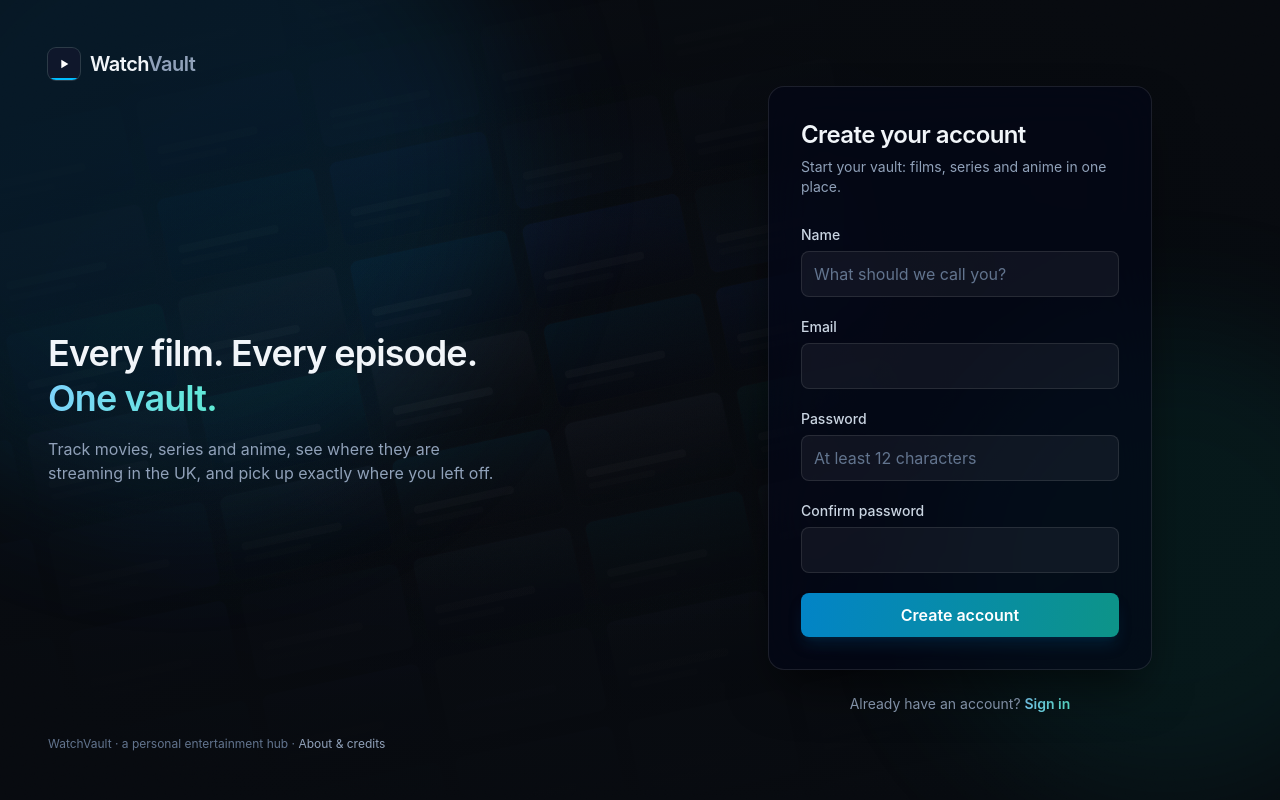
Test case: register › requires a name
Click the button "Create account".
click(960, 615)  # box x1=801 y1=593 x2=1119 y2=637
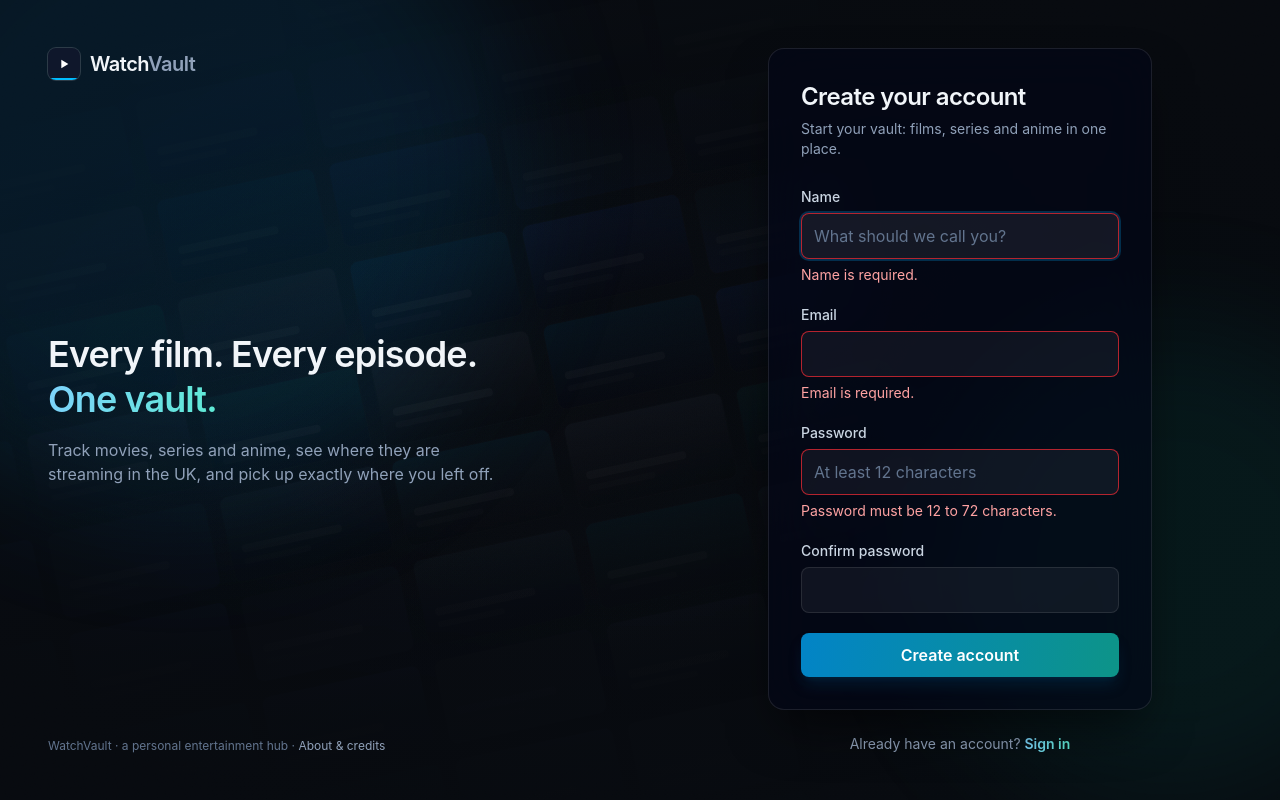
Result: the text "Name is required." is shown at x1=801 y1=266 x2=918 y2=283
